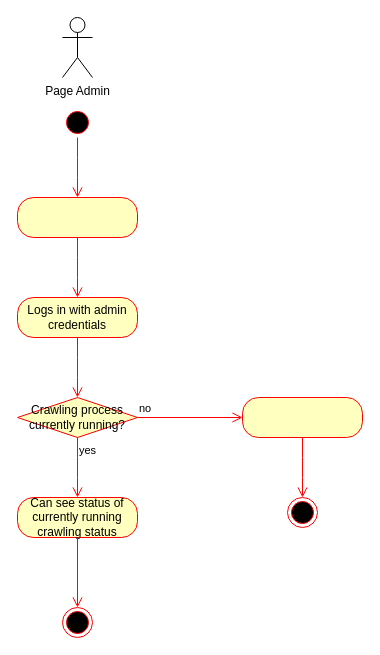
This 380x655 diagram has some shape labels left out. The centre of each missing label's shape, as x and y in pixels:
Can see status of latest crawling process: (x=302, y=417)
Opens Administration Page: (x=77, y=217)
